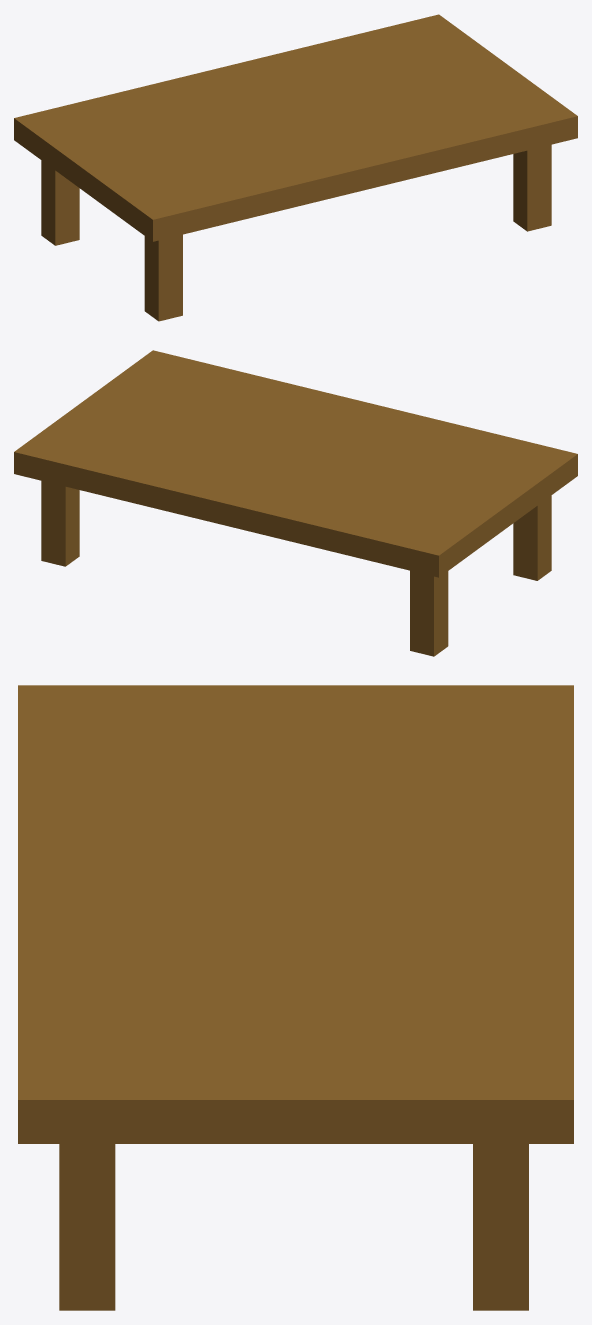
File: Mesa.fbx
3 renders of one model, top to bottom at view 1: azimuth 30°, elevation 25°; view 2: azimuth 150°, elevation 25°; view 3: azimuth 270°, elevation 25°, orthographic. The views are drawn at different scales.
Visible parts, largest first — view 1: Mesa; view 2: Mesa; view 3: Mesa.
Part boxes in pixels (<box>): Mesa: <box>14,14,577,321</box>; Mesa: <box>14,350,577,656</box>; Mesa: <box>18,685,573,1310</box>.
Size of the model in its own units: 4036 by 1027 by 2286.
